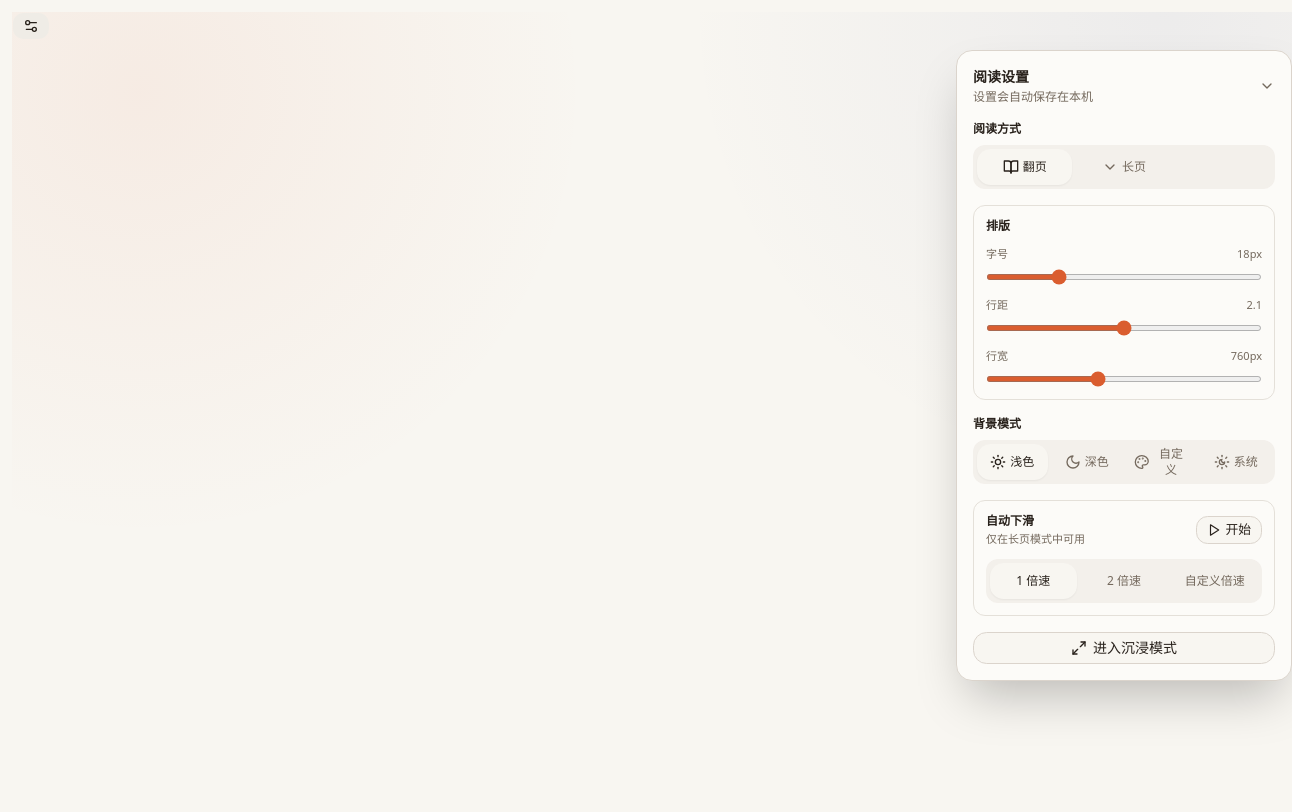
Test case: reader preferences › enables long-page auto scroll and custom background controls
Check: the button "开始" is disabled, box [1196,516,1262,544]
Click the button "长页" at (1124, 167), box [1076,149,1172,185]
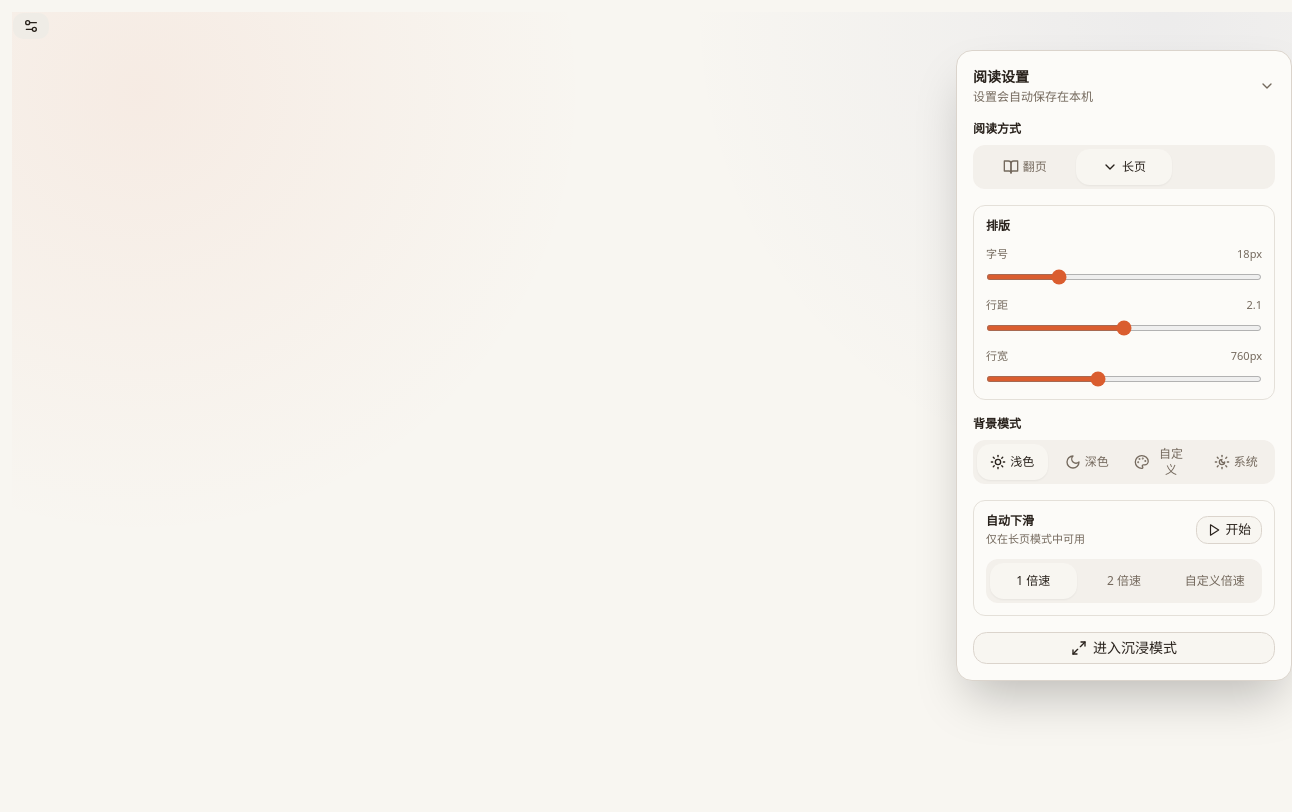
Click the button "开始" at (1229, 530), box [1196,516,1262,544]
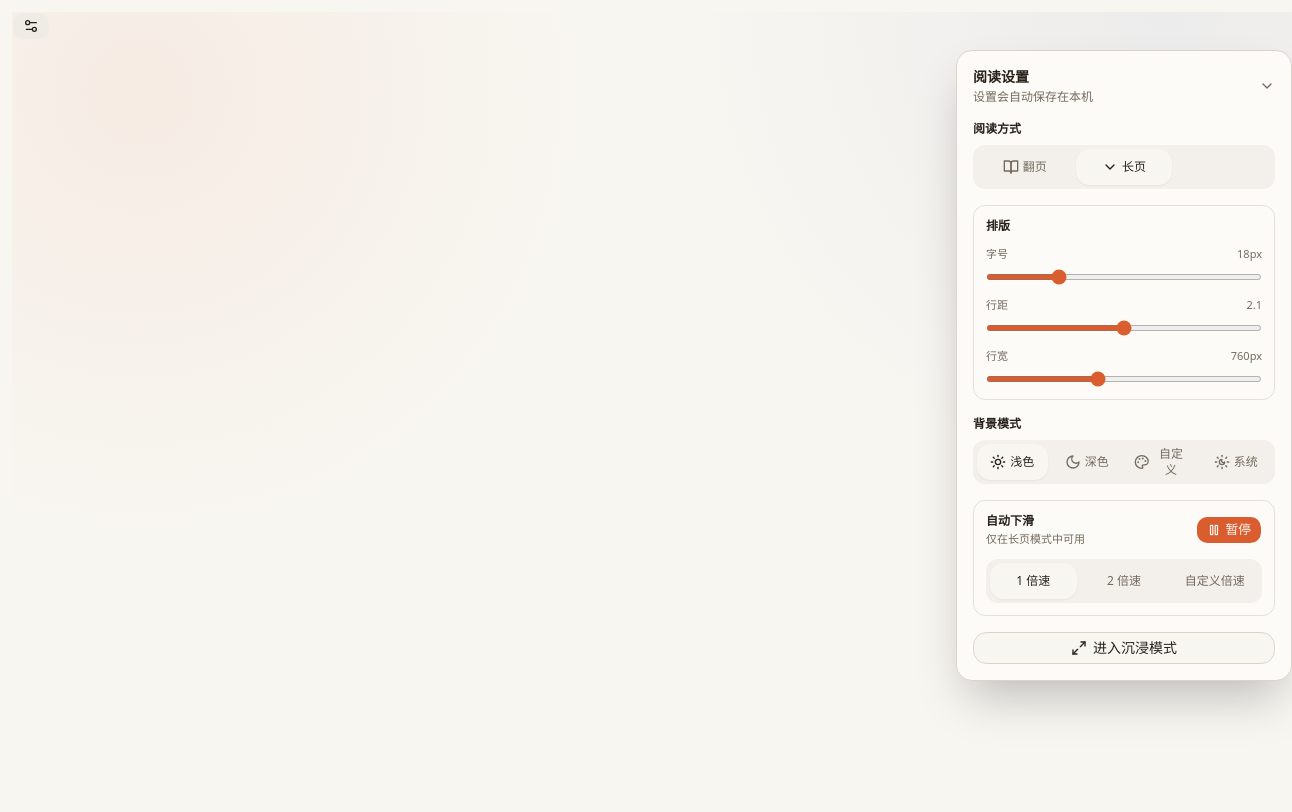
Check: the button "暂停" is pressed, box [1196,516,1262,544]
Click the button "2 倍速" at (1124, 581), box [1081,563,1167,599]
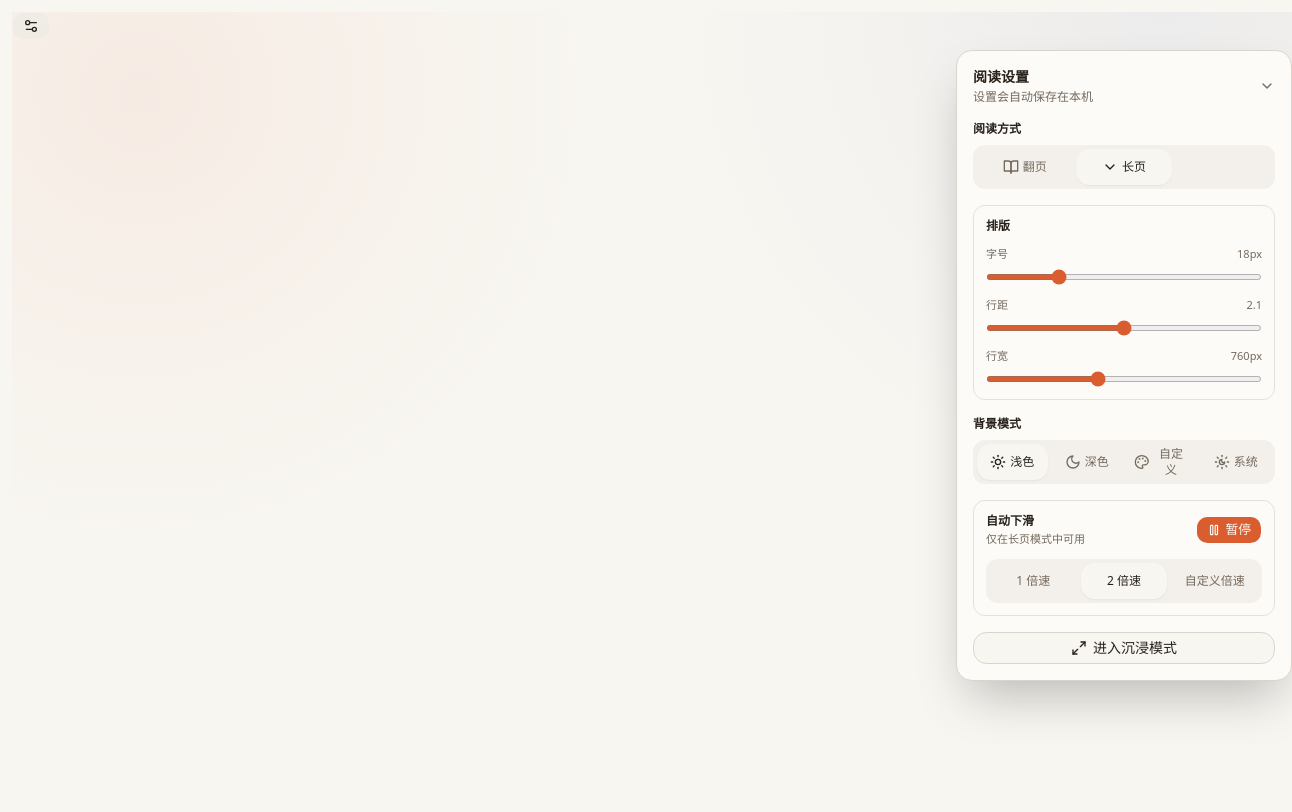
Check: the button "2 倍速" is pressed, box [1081,563,1167,599]
Click the button "自定义倍速" at (1215, 581), box [1171,563,1258,599]
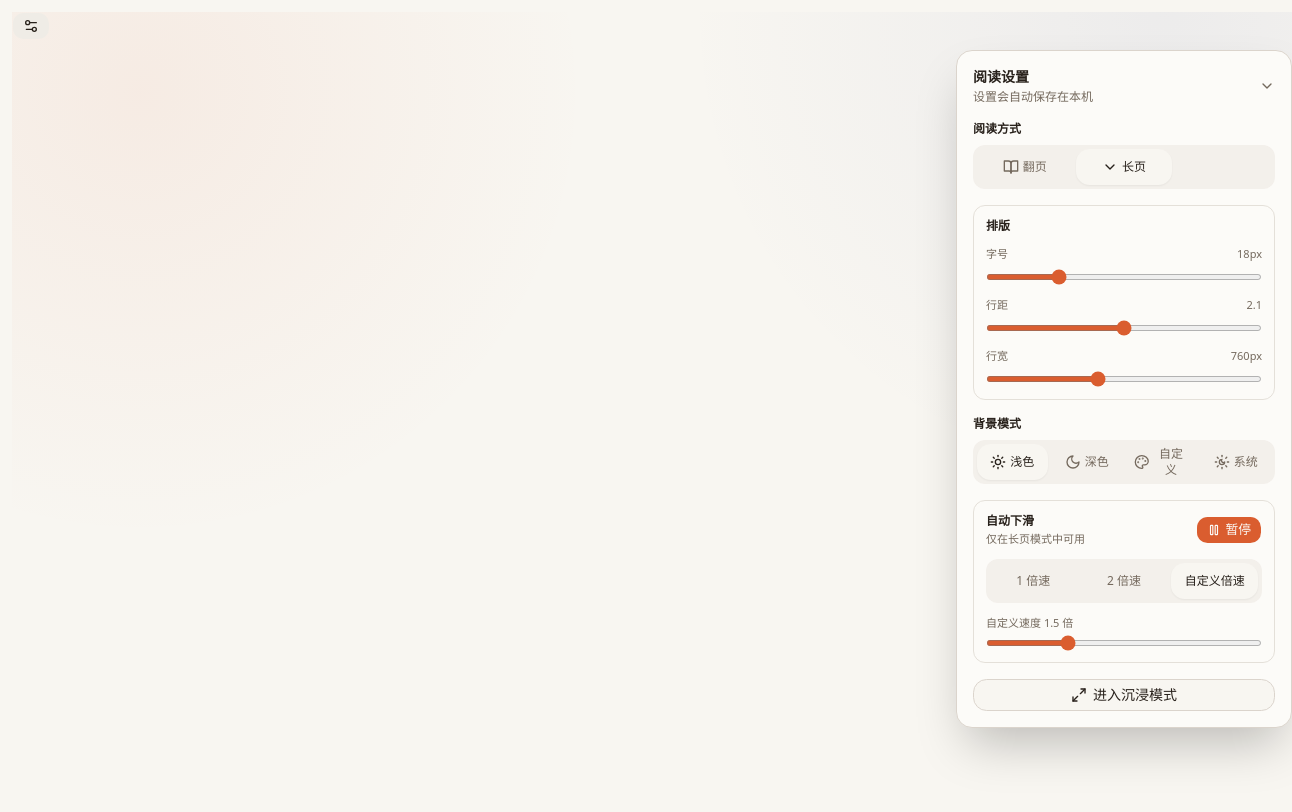
Check: the slider named "自定义自动下滑倍速" is shown, box [986,640,1262,646]
Click the button "自定义" at (1161, 462), box [1126,444,1196,480]
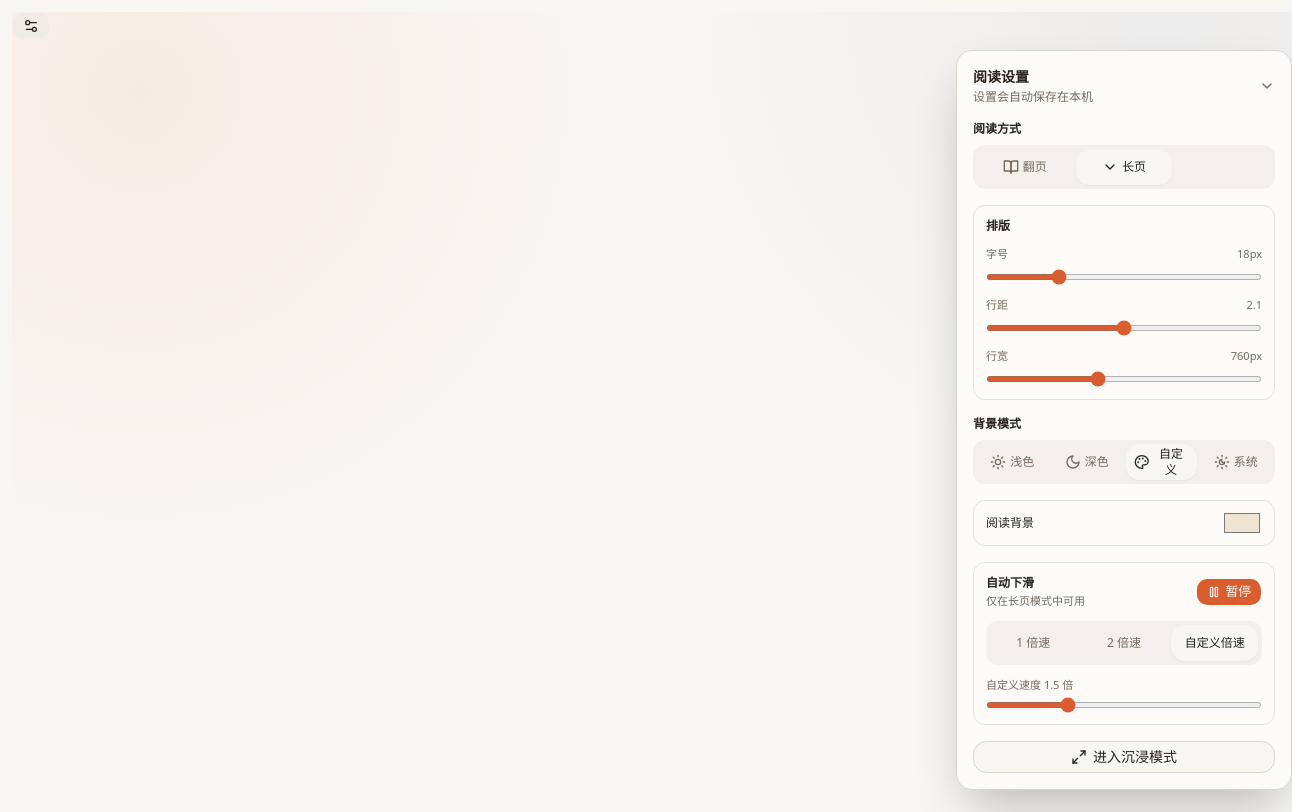
Check: the colour field named "自定义阅读背景" is shown, box [1222,509,1262,537]
